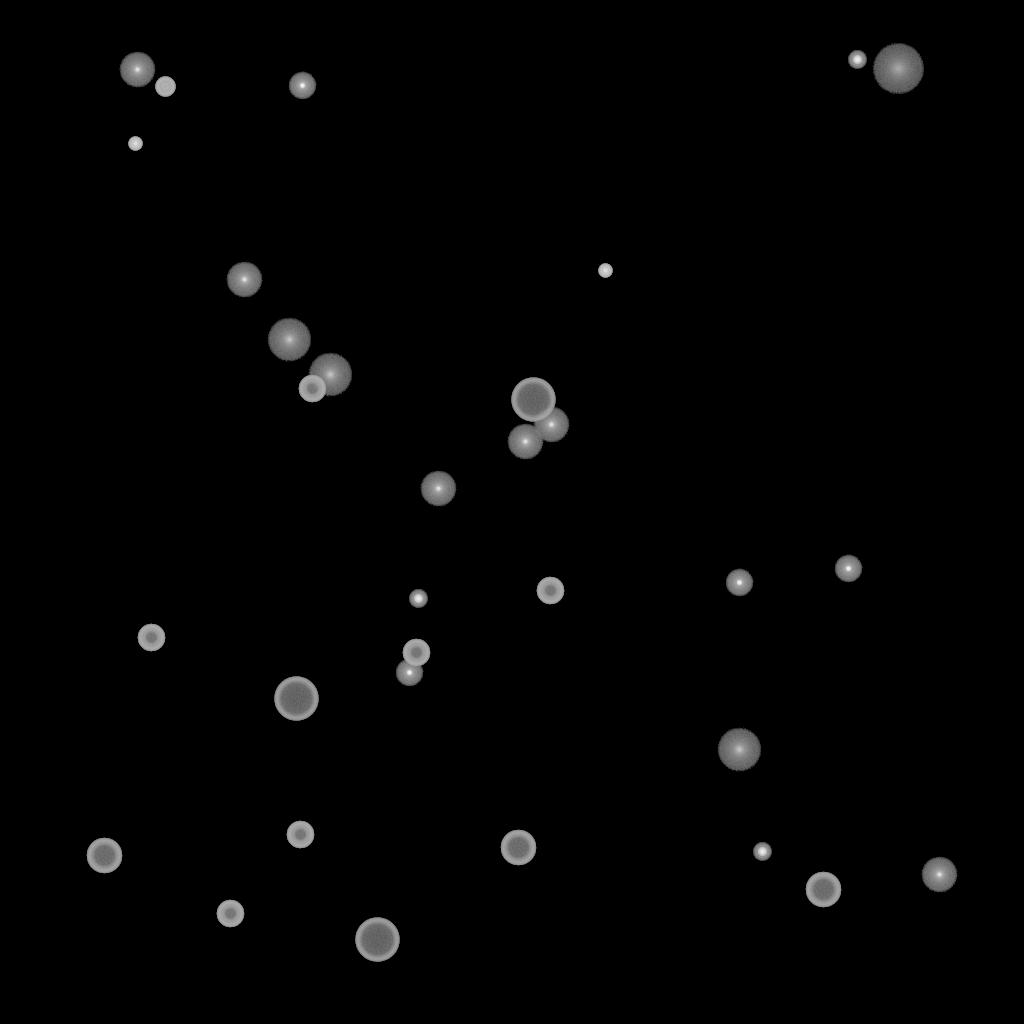depth:-10: (834, 555, 862, 583), (288, 72, 316, 100), (395, 659, 423, 687), (725, 569, 753, 597)
depth:-20: (409, 590, 427, 608), (848, 51, 866, 69), (753, 843, 771, 861)
depth:-30: (598, 264, 612, 278), (128, 137, 142, 151)
depth:-40: (155, 77, 175, 97)
depth:-50: (536, 577, 564, 605), (216, 900, 244, 928), (286, 821, 314, 849), (298, 375, 326, 403), (402, 639, 430, 667), (137, 624, 165, 652)
depth:-60: (86, 838, 122, 874), (805, 872, 841, 908), (500, 830, 536, 866)
depth:-70: (511, 378, 555, 422), (355, 918, 399, 962), (274, 677, 318, 721)
depth:0: (119, 52, 155, 88), (507, 424, 543, 460), (226, 262, 262, 298), (420, 471, 456, 507), (533, 407, 569, 443), (921, 857, 957, 893)
depth:10: (717, 728, 761, 772), (267, 318, 311, 362), (308, 353, 352, 397)
depth:20: (872, 44, 924, 94)
